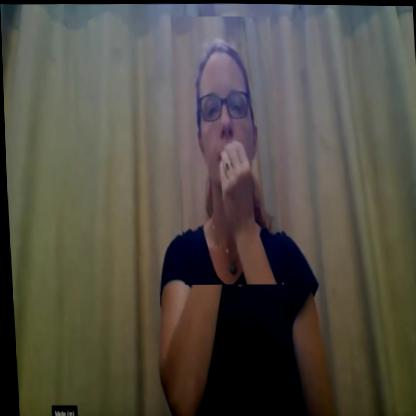Food: (170, 14, 282, 285)
